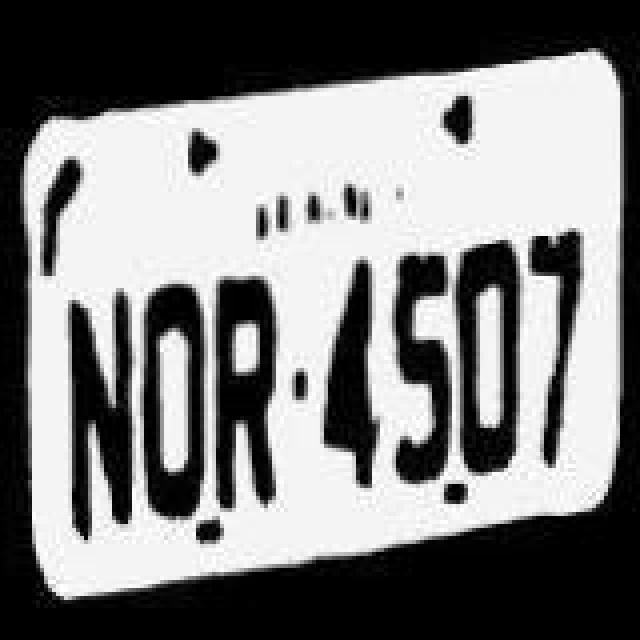4: (314, 258, 386, 490)
5: (382, 248, 454, 484)
7: (526, 200, 590, 472)
N: (58, 276, 138, 548)
O: (134, 266, 206, 526), (456, 226, 524, 482)
R: (210, 272, 290, 516)
